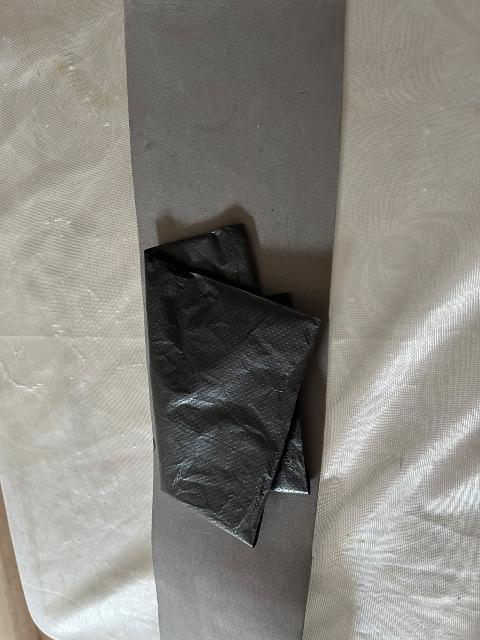LDPE: (121, 197, 345, 560)
